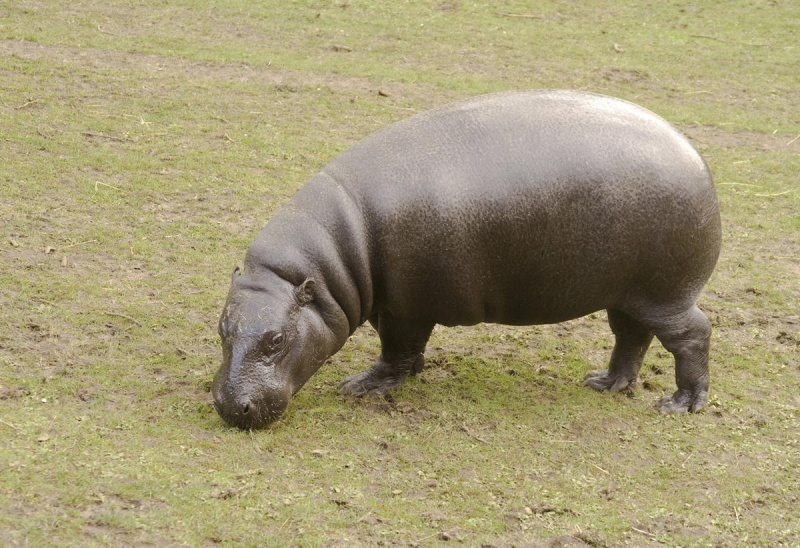hipopotamo: (210, 89, 727, 426)
